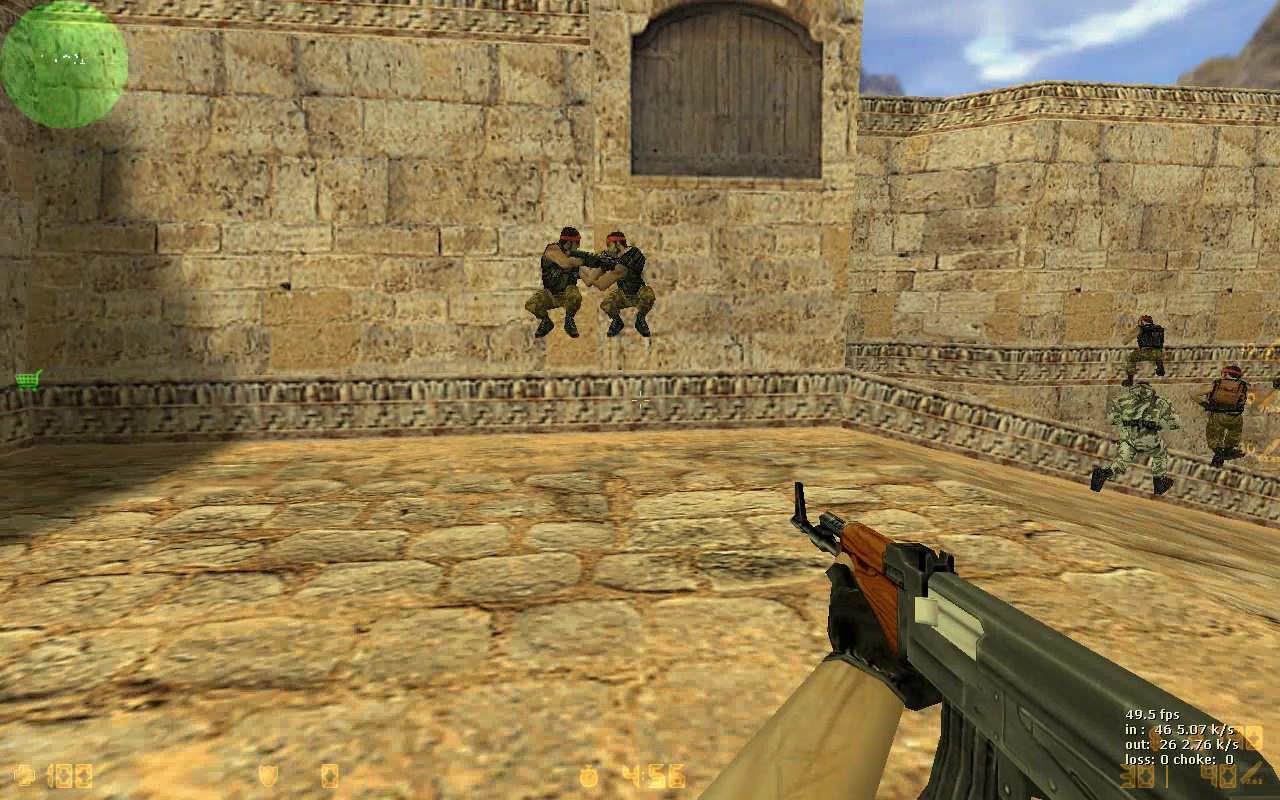terr1: (517, 227, 598, 342), (1186, 366, 1278, 466), (592, 233, 656, 341), (1108, 314, 1172, 385)
terr2: (1090, 383, 1185, 502)
